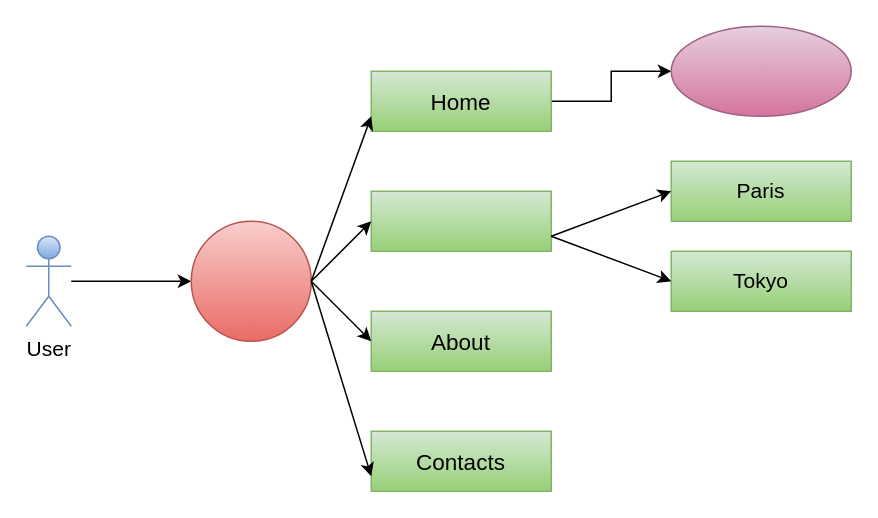
Image size: 878x518. Some labels were removed from this diagram. The shapes that lost their labels are listed below. From the top down, each one's centre as x and y in pixels, then its label:
At pixel 760 70: "Explore Now".
At pixel 460 220: "Destinations".
At pixel 250 280: "Menu page".
